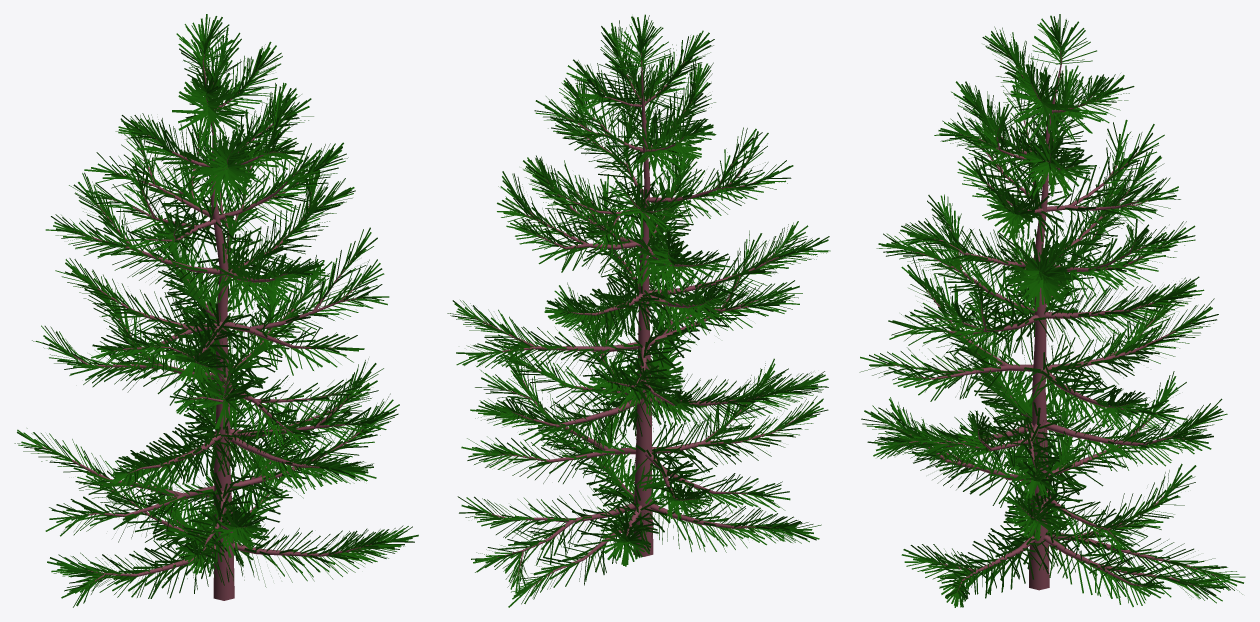
Rendered from Tree.fbx.
The picture shows the model from 3 angles, left to right: view 1: azimuth 30°, elevation 25°; view 2: azimuth 150°, elevation 25°; view 3: azimuth 270°, elevation 25°; orthographic projection. The views are drawn at different scales.
Parts seen in each view (by area): view 1: leaves, tree; view 2: leaves, tree; view 3: leaves, tree.
Part boxes in pixels (<box>): leaves: <box>14,14,418,607</box>; tree: <box>37,54,390,600</box>; leaves: <box>447,14,830,607</box>; tree: <box>474,50,798,588</box>; leaves: <box>859,14,1245,607</box>; tree: <box>886,44,1219,591</box>.
Bounding box in the file's own units: 244 × 386 × 239.
